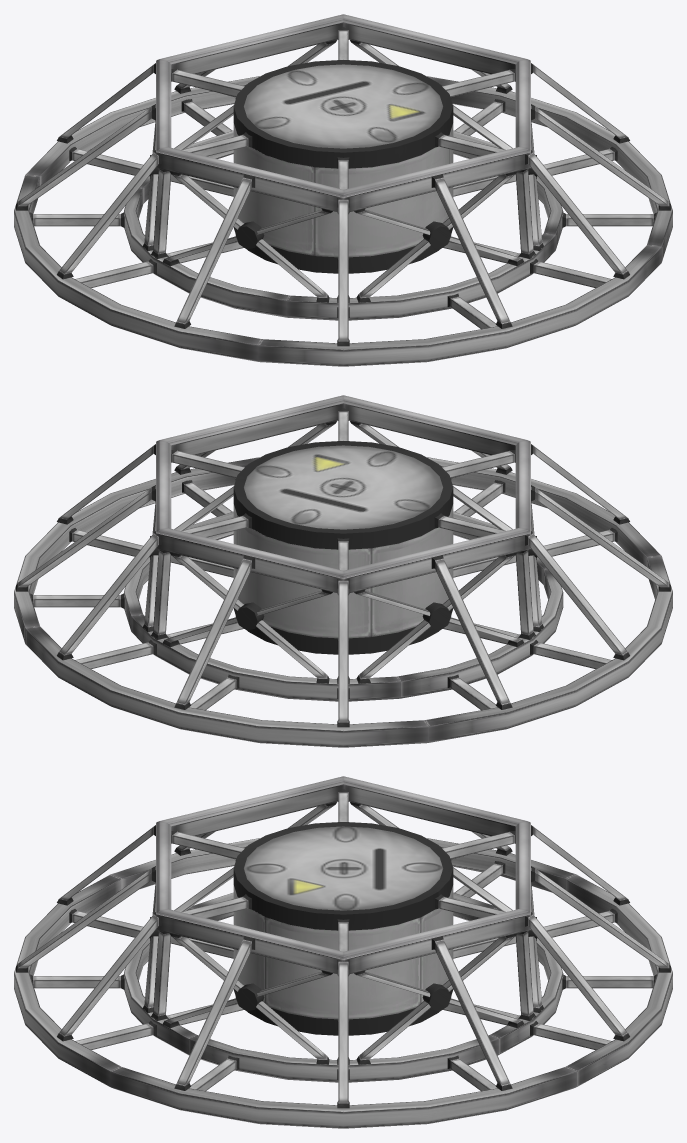
The model's file is HexAdapter2.FBX.
The picture shows the model from 3 angles, top to bottom: view 1: azimuth 30°, elevation 25°; view 2: azimuth 150°, elevation 25°; view 3: azimuth 270°, elevation 25°; orthographic projection.
Parts seen in each view (by area): view 1: BottomRing001, EndBeam011, EndCap021, Cylinder013, BottomRing, EndCap024, Pilar340, Pilar339, Pilar333, Pilar331, Pilar341, Pilar338 (+28 smaller); view 2: BottomRing001, EndBeam011, EndCap021, Cylinder013, BottomRing, EndCap024, Pilar338, Pilar337, Pilar331, Pilar335, Pilar339, Pilar342 (+28 smaller); view 3: BottomRing001, EndBeam011, EndCap021, Cylinder013, BottomRing, EndCap024, Pilar342, Pilar341, Pilar335, Pilar333, Pilar337, Pilar340 (+28 smaller).
Part boxes in pixels (left/top/right/bottom): BottomRing001: left=14, top=76, right=672, bottom=366; EndBeam011: left=156, top=14, right=530, bottom=212; EndCap021: left=233, top=60, right=453, bottom=168; Cylinder013: left=233, top=123, right=453, bottom=257; BottomRing: left=124, top=130, right=563, bottom=320; EndCap024: left=233, top=167, right=453, bottom=273; Pilar340: left=431, top=174, right=512, bottom=328; Pilar339: left=174, top=174, right=255, bottom=328; Pilar333: left=525, top=150, right=629, bottom=279; Pilar331: left=57, top=150, right=161, bottom=279; Pilar341: left=531, top=104, right=670, bottom=210; Pilar338: left=16, top=104, right=155, bottom=210; BottomRing001: left=14, top=457, right=672, bottom=747; EndBeam011: left=156, top=395, right=530, bottom=593; EndCap021: left=233, top=441, right=453, bottom=549; Cylinder013: left=233, top=504, right=453, bottom=638; BottomRing: left=124, top=511, right=563, bottom=701; EndCap024: left=233, top=548, right=453, bottom=654; Pilar338: left=431, top=555, right=512, bottom=709; Pilar337: left=174, top=555, right=255, bottom=709; Pilar331: left=525, top=531, right=629, bottom=660; Pilar335: left=57, top=531, right=161, bottom=660; Pilar339: left=531, top=485, right=670, bottom=591; Pilar342: left=16, top=485, right=155, bottom=591; BottomRing001: left=14, top=838, right=672, bottom=1128; EndBeam011: left=156, top=776, right=530, bottom=974; EndCap021: left=233, top=822, right=453, bottom=930; Cylinder013: left=233, top=885, right=453, bottom=1019; BottomRing: left=124, top=892, right=563, bottom=1082; EndCap024: left=233, top=929, right=453, bottom=1035; Pilar342: left=431, top=936, right=512, bottom=1090; Pilar341: left=174, top=936, right=255, bottom=1090; Pilar335: left=525, top=912, right=629, bottom=1041; Pilar333: left=57, top=912, right=161, bottom=1041; Pilar337: left=531, top=866, right=670, bottom=972; Pilar340: left=16, top=866, right=155, bottom=972.
Size of what is drawn, in the model's own units: 3.75 by 0.7865 by 3.75.
